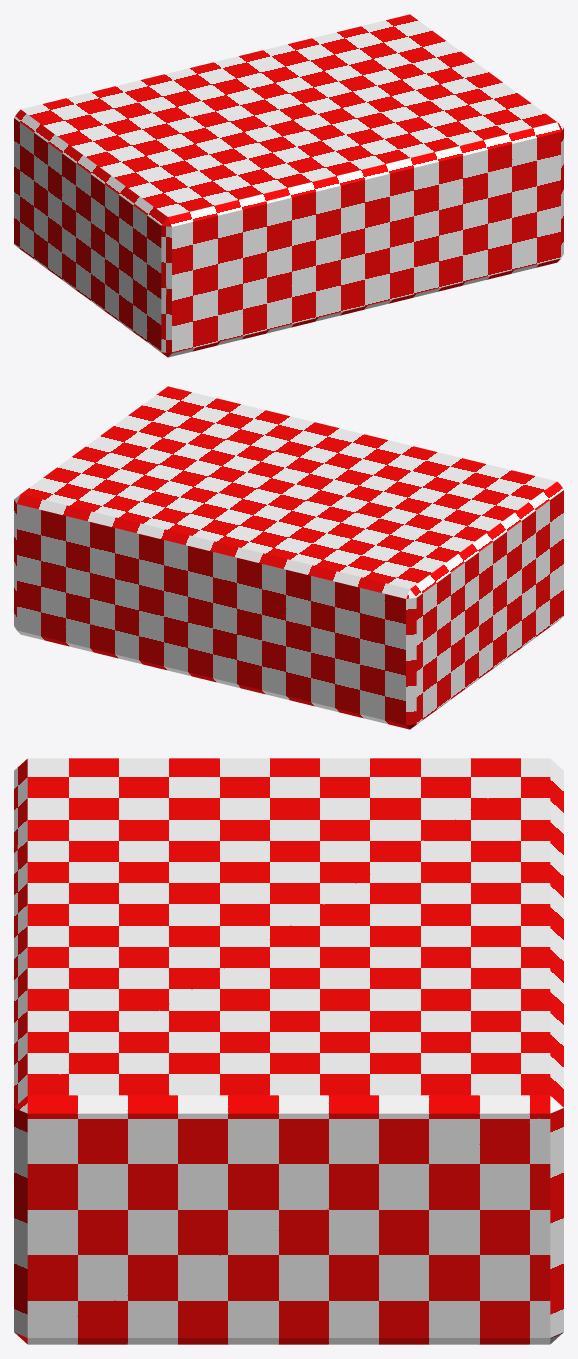
Rendered from stonemill.dae.
The picture shows the model from 3 angles, top to bottom: view 1: azimuth 30°, elevation 25°; view 2: azimuth 150°, elevation 25°; view 3: azimuth 270°, elevation 25°; orthographic projection. The views are drawn at different scales.
Visible parts, largest first — view 1: Cube; view 2: Cube; view 3: Cube.
Boxes of the visible parts, x1,y1,x2,y2 form: Cube: (14,14,563,357); Cube: (14,386,563,729); Cube: (14,758,563,1344).
Size of the model in its own units: 3 by 2 by 1.
Materials: 1 (1 with a texture image).
